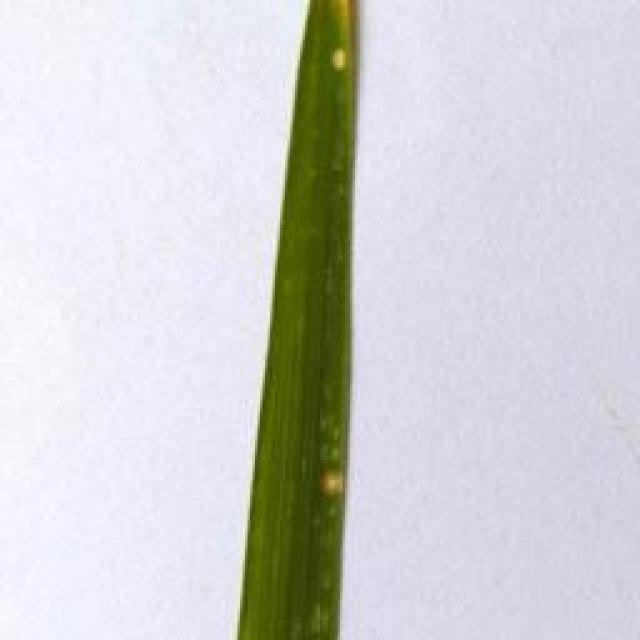Unhealthy: (320, 468, 343, 495), (332, 48, 347, 70)
